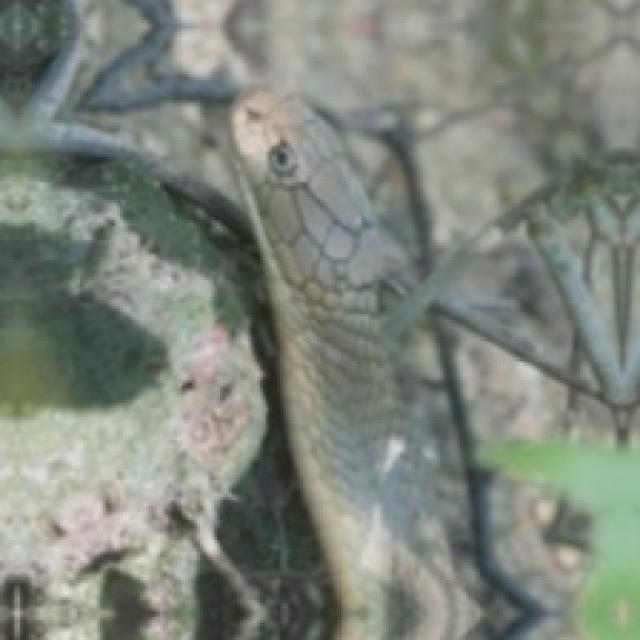king cobra: (231, 91, 577, 637)
